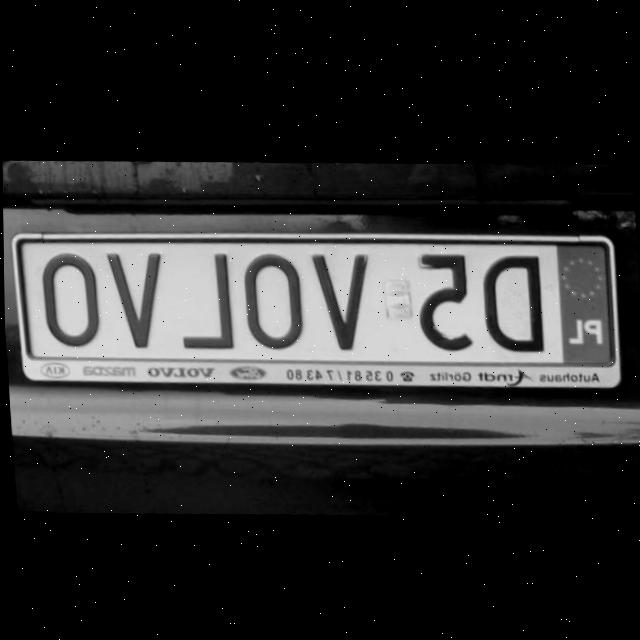license-plates: (14, 236, 615, 366)
